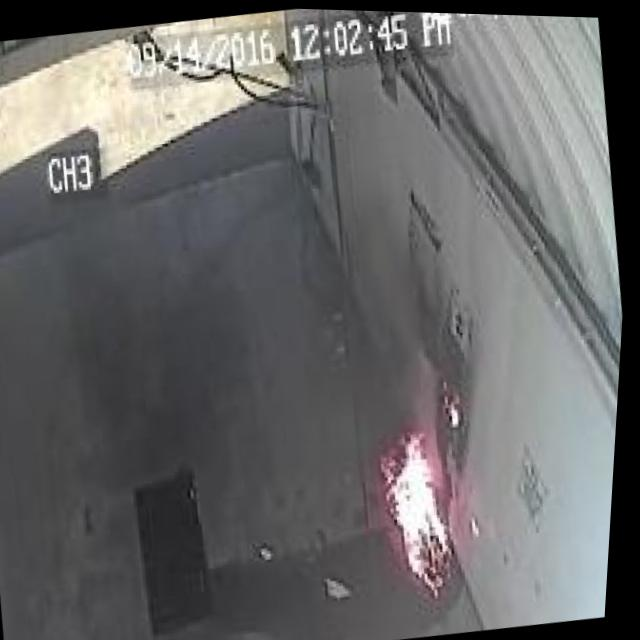fire: (366, 411, 480, 612), (433, 388, 478, 437)
